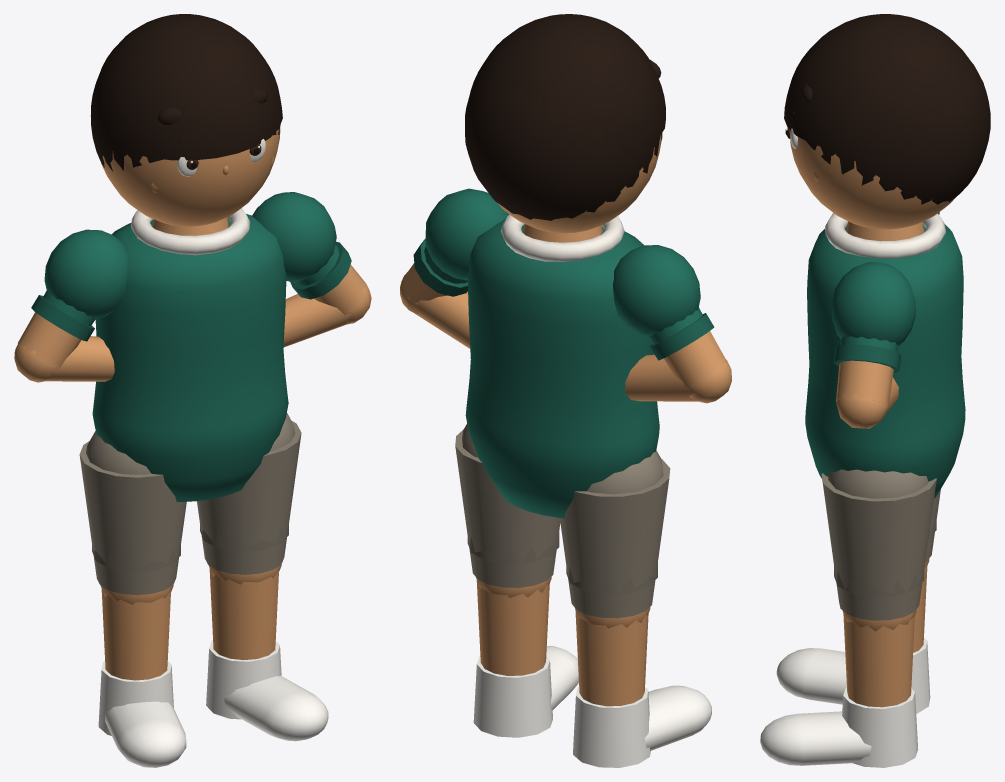
File: 17-alif.glb
3 renders of one model, left to right at view 1: azimuth 30°, elevation 25°; view 2: azimuth 150°, elevation 25°; view 3: azimuth 270°, elevation 25°, orthographic. The views are drawn at different scales.
Visible parts, largest first — view 1: Alif, skull, armR, armL, elbow (×2); view 2: Alif, skull, armR, armL, elbow (×2); view 3: Alif, skull, armL, elbow.
Boxes of the visible parts, <box> form: Alif: <box>79,208,328,767</box>; skull: <box>90,14,282,226</box>; armR: <box>18,229,128,368</box>; armL: <box>252,192,366,315</box>; elbow (×2): <box>14,281,371,382</box>; Alif: <box>455,214,711,767</box>; skull: <box>465,14,665,233</box>; armR: <box>613,245,728,388</box>; armL: <box>402,188,509,305</box>; elbow (×2): <box>400,272,731,403</box>; Alif: <box>760,213,965,767</box>; skull: <box>784,14,990,229</box>; armL: <box>831,262,915,406</box>; elbow: <box>836,377,898,428</box>.
Bounding box in the file's own units: 0.5025 × 1.01 × 0.2972.
